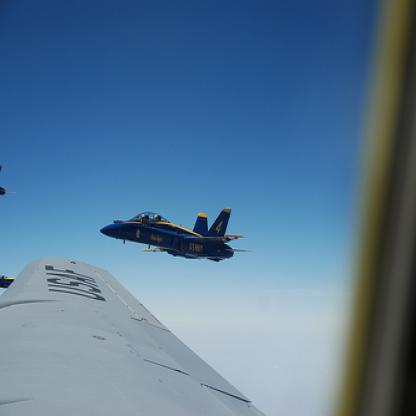aeroplane: (0, 256, 271, 415), (100, 205, 254, 263)
